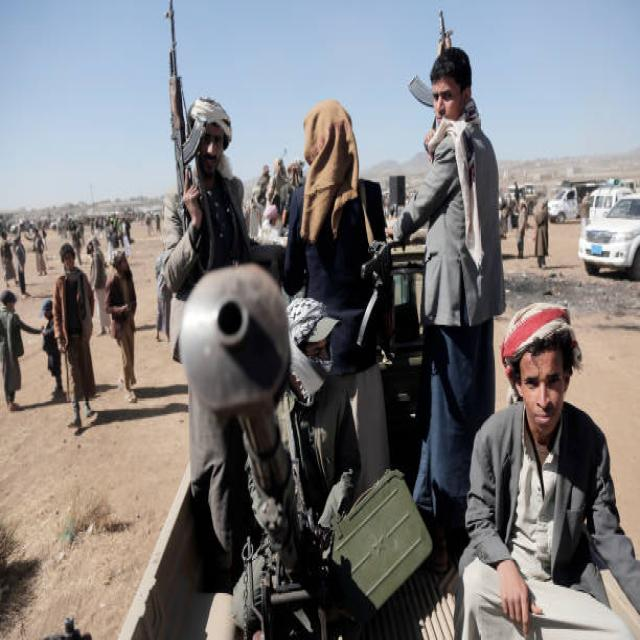LMV: (578, 193, 639, 279)
civilian: (461, 303, 639, 638), (0, 243, 95, 425), (98, 249, 136, 402)
terrorist: (395, 47, 504, 538), (283, 100, 392, 491), (161, 97, 283, 361), (275, 296, 360, 638), (188, 378, 251, 591), (232, 458, 270, 638)
